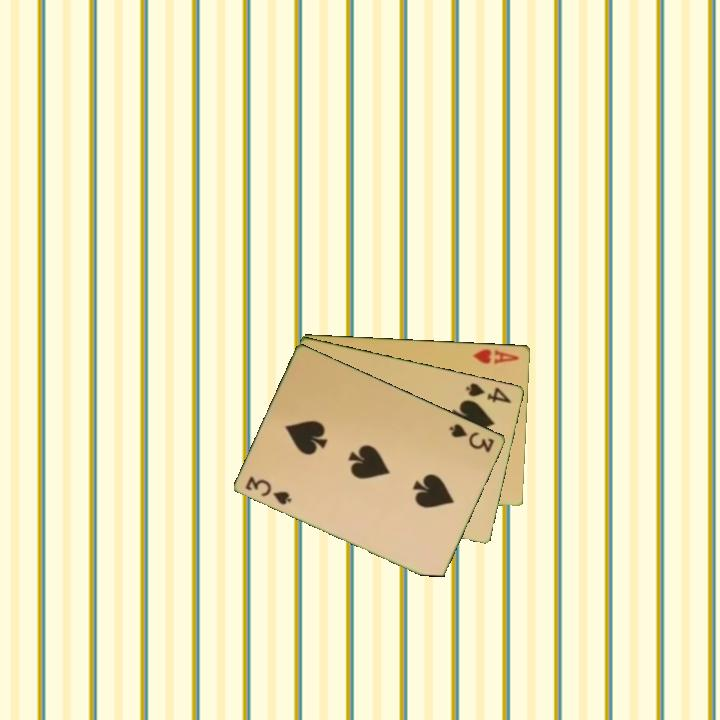3s: (242, 472, 295, 508), (446, 420, 497, 455)
4s: (462, 379, 514, 406)
Ah: (469, 345, 522, 367)
